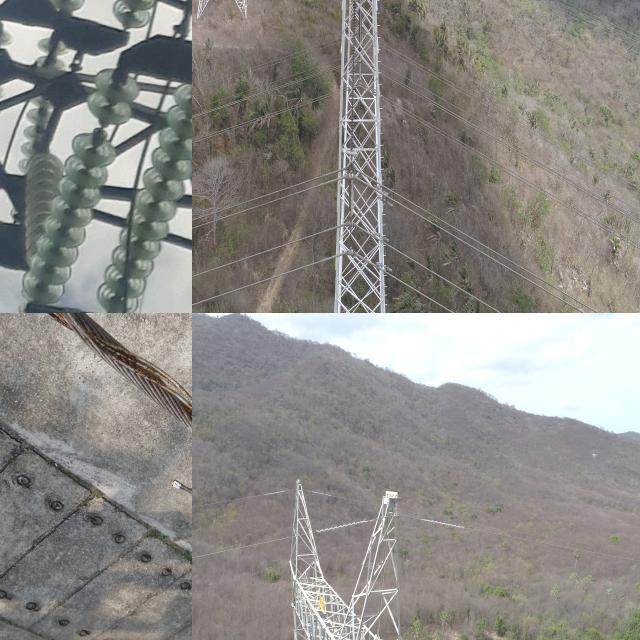杆塔: (0, 0, 192, 313), (283, 465, 452, 640), (325, 0, 400, 313)
正常电缆: (428, 210, 609, 313), (192, 225, 310, 287), (192, 254, 316, 313), (418, 258, 513, 313), (417, 287, 465, 313)
正常绝缘子: (0, 57, 153, 313), (80, 79, 192, 313), (346, 0, 360, 161)
绝缘子破损: (89, 124, 111, 138)
